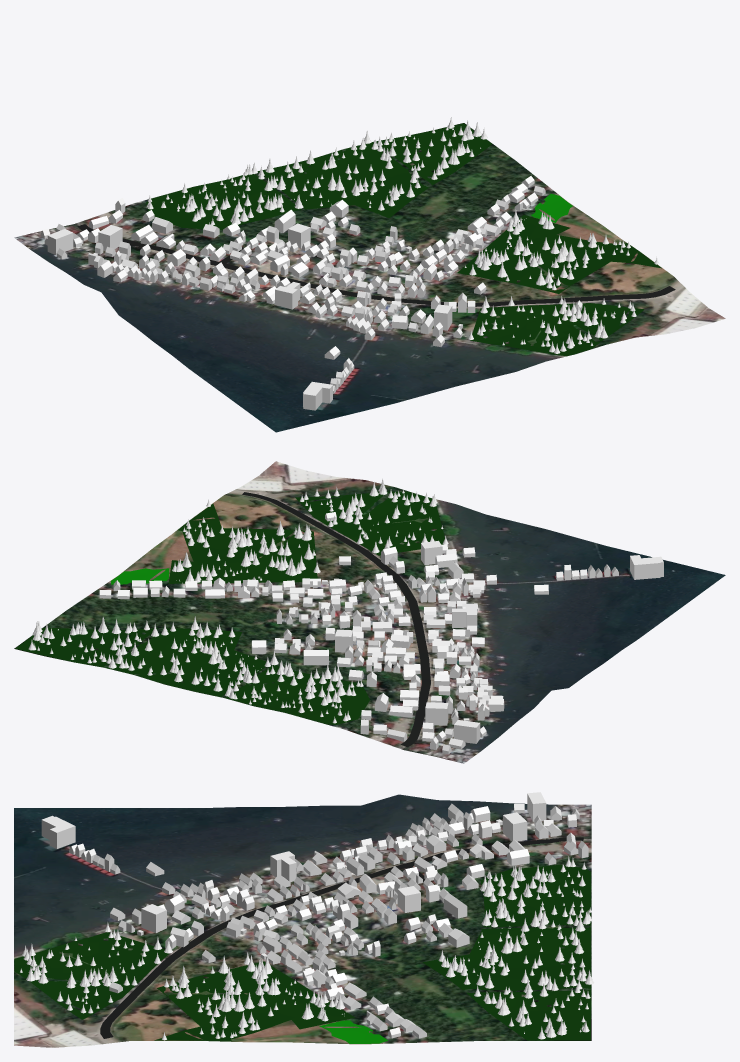
File: PanaboDavao.gltf
3 renders of one model, top to bottom at view 1: azimuth 30°, elevation 25°; view 2: azimuth 150°, elevation 25°; view 3: azimuth 270°, elevation 25°, orthographic. The views are drawn at different scales.
Parts seen in each view (by area): view 1: Terrain, map_15.osm_buildings, map_16.osm_forest, map_16.osm_roads_secondary, map_16.osm_vegetation; view 2: Terrain, map_15.osm_buildings, map_16.osm_forest, map_16.osm_roads_secondary, map_16.osm_vegetation; view 3: Terrain, map_15.osm_buildings, map_16.osm_forest, map_16.osm_roads_secondary, map_16.osm_vegetation.
Part boxes in pixels (<box>): Terrain: <box>14,123,725,432</box>; map_15.osm_buildings: <box>40,176,582,410</box>; map_16.osm_forest: <box>146,123,661,356</box>; map_16.osm_roads_secondary: <box>77,224,675,306</box>; map_16.osm_vegetation: <box>531,193,572,222</box>; Terrain: <box>14,461,725,763</box>; map_15.osm_buildings: <box>99,512,663,754</box>; map_16.osm_forest: <box>15,491,444,724</box>; map_16.osm_roads_secondary: <box>242,492,430,747</box>; map_16.osm_vegetation: <box>110,568,169,584</box>; Terrain: <box>14,794,591,1047</box>; map_15.osm_buildings: <box>41,792,588,1038</box>; map_16.osm_forest: <box>14,864,590,1041</box>; map_16.osm_roads_secondary: <box>100,837,583,1038</box>; map_16.osm_vegetation: <box>319,1020,387,1043</box>.
Size of the model in its own units: 461 by 123 by 572.
7 materials, 1 textured.
